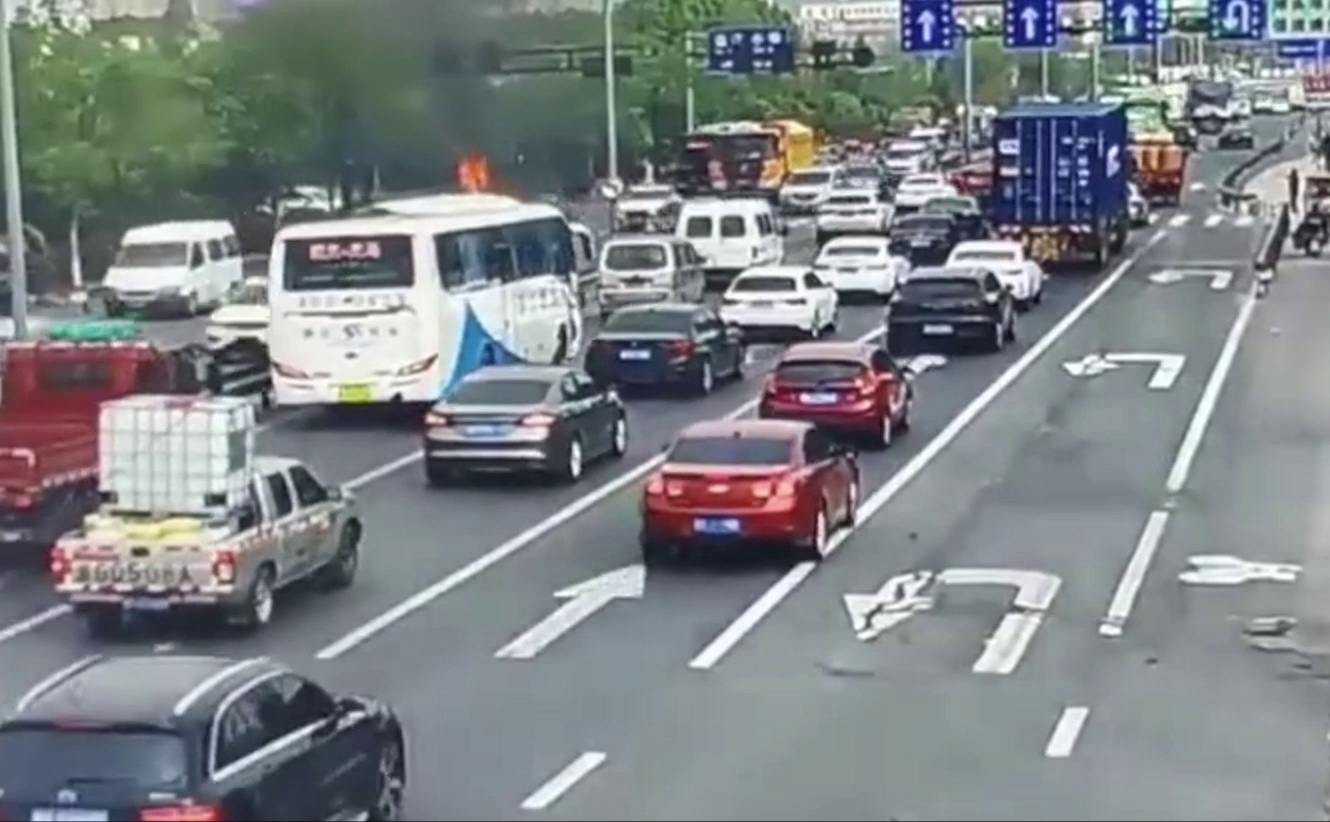smoke: (347, 12, 565, 194)
